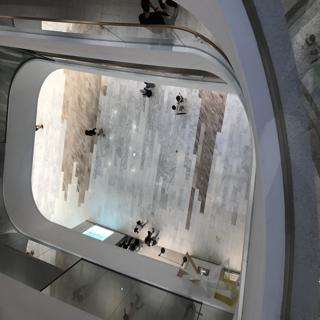person: (78, 123, 113, 142), (169, 102, 194, 120), (127, 217, 150, 235), (144, 232, 161, 251)
